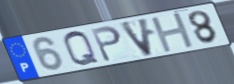6: (32, 35, 68, 73)
8: (187, 9, 220, 45)
H: (149, 11, 197, 55)
P: (89, 24, 123, 64)
Q: (62, 30, 102, 68)
V: (117, 16, 156, 59)
